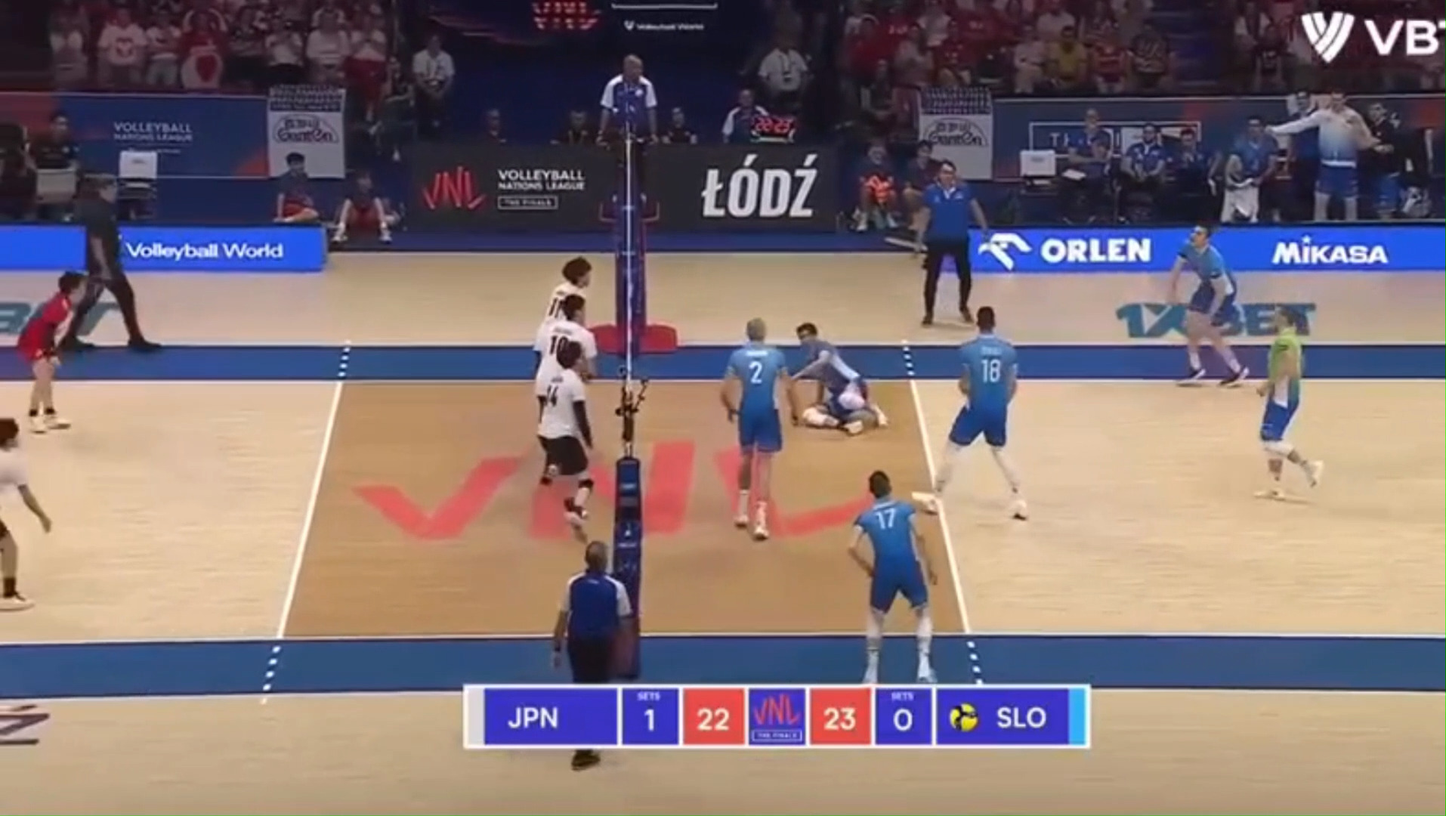player: (924, 307, 1027, 519), (849, 471, 935, 684), (720, 318, 788, 539), (1167, 226, 1248, 385), (1258, 308, 1322, 499), (795, 323, 888, 434)
player 1: (537, 340, 594, 539), (17, 270, 86, 432), (534, 292, 597, 400), (0, 418, 51, 532), (539, 256, 592, 333), (0, 516, 32, 610)
referee: (61, 175, 159, 351), (918, 161, 987, 326), (554, 542, 632, 683), (598, 55, 658, 224)
